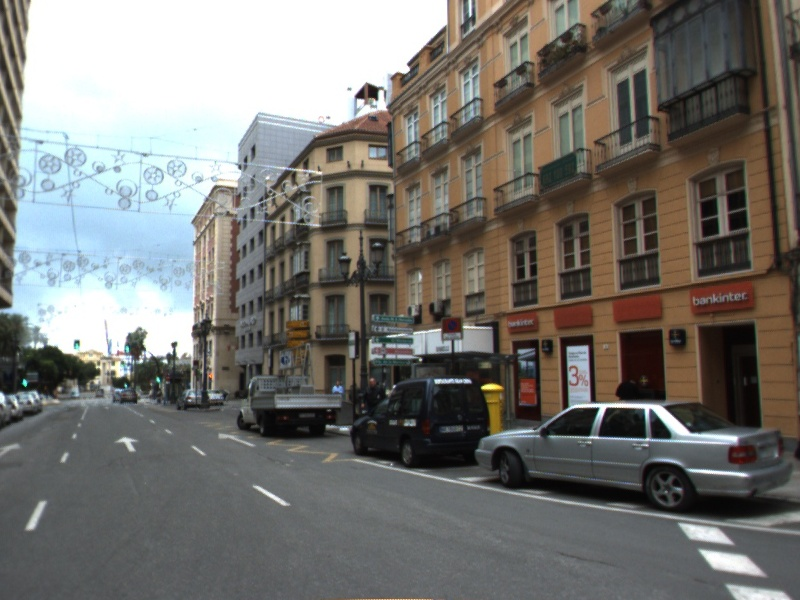STRAIGHT: (215, 431, 258, 449), (112, 434, 141, 454)
